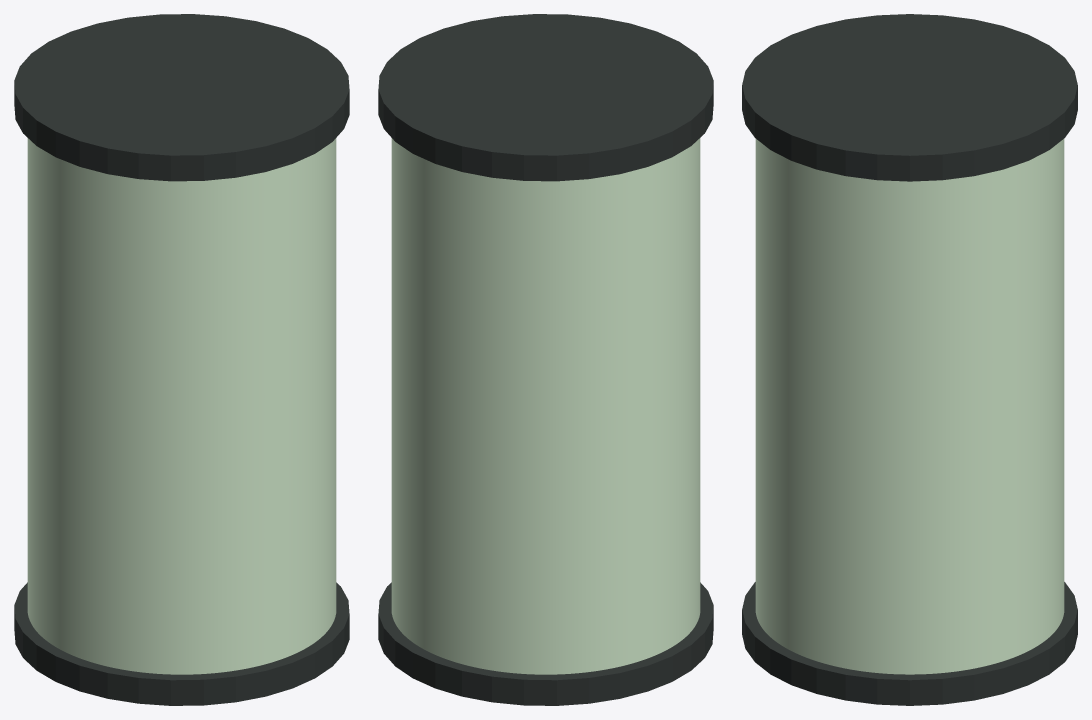
File: cilindro_maluco.fbx
3 views of the same model, side by side, from view 1: azimuth 30°, elevation 25°; view 2: azimuth 150°, elevation 25°; view 3: azimuth 270°, elevation 25° (orthographic).
Parts seen in each view (by area): view 1: vidro, topo, base; view 2: vidro, topo, base; view 3: vidro, topo, base.
Boxes of the visible parts, x1,y1,x2,y2 form: vidro: [27, 138, 336, 674]; topo: [14, 14, 349, 181]; base: [14, 582, 349, 705]; vidro: [391, 138, 700, 674]; topo: [378, 14, 713, 181]; base: [378, 582, 713, 705]; vidro: [755, 139, 1064, 674]; topo: [742, 14, 1077, 181]; base: [742, 582, 1077, 705].
Bounding box in the file's own units: 216 × 391 × 216.
